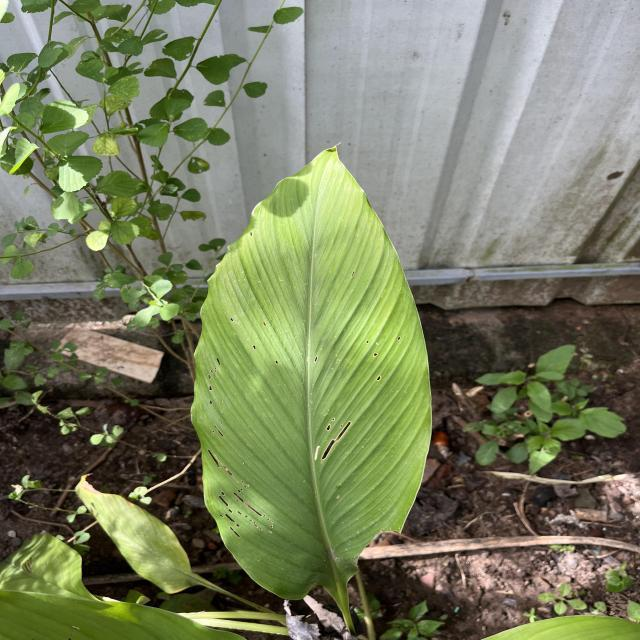Curcuma longa: (189, 142, 435, 604)
